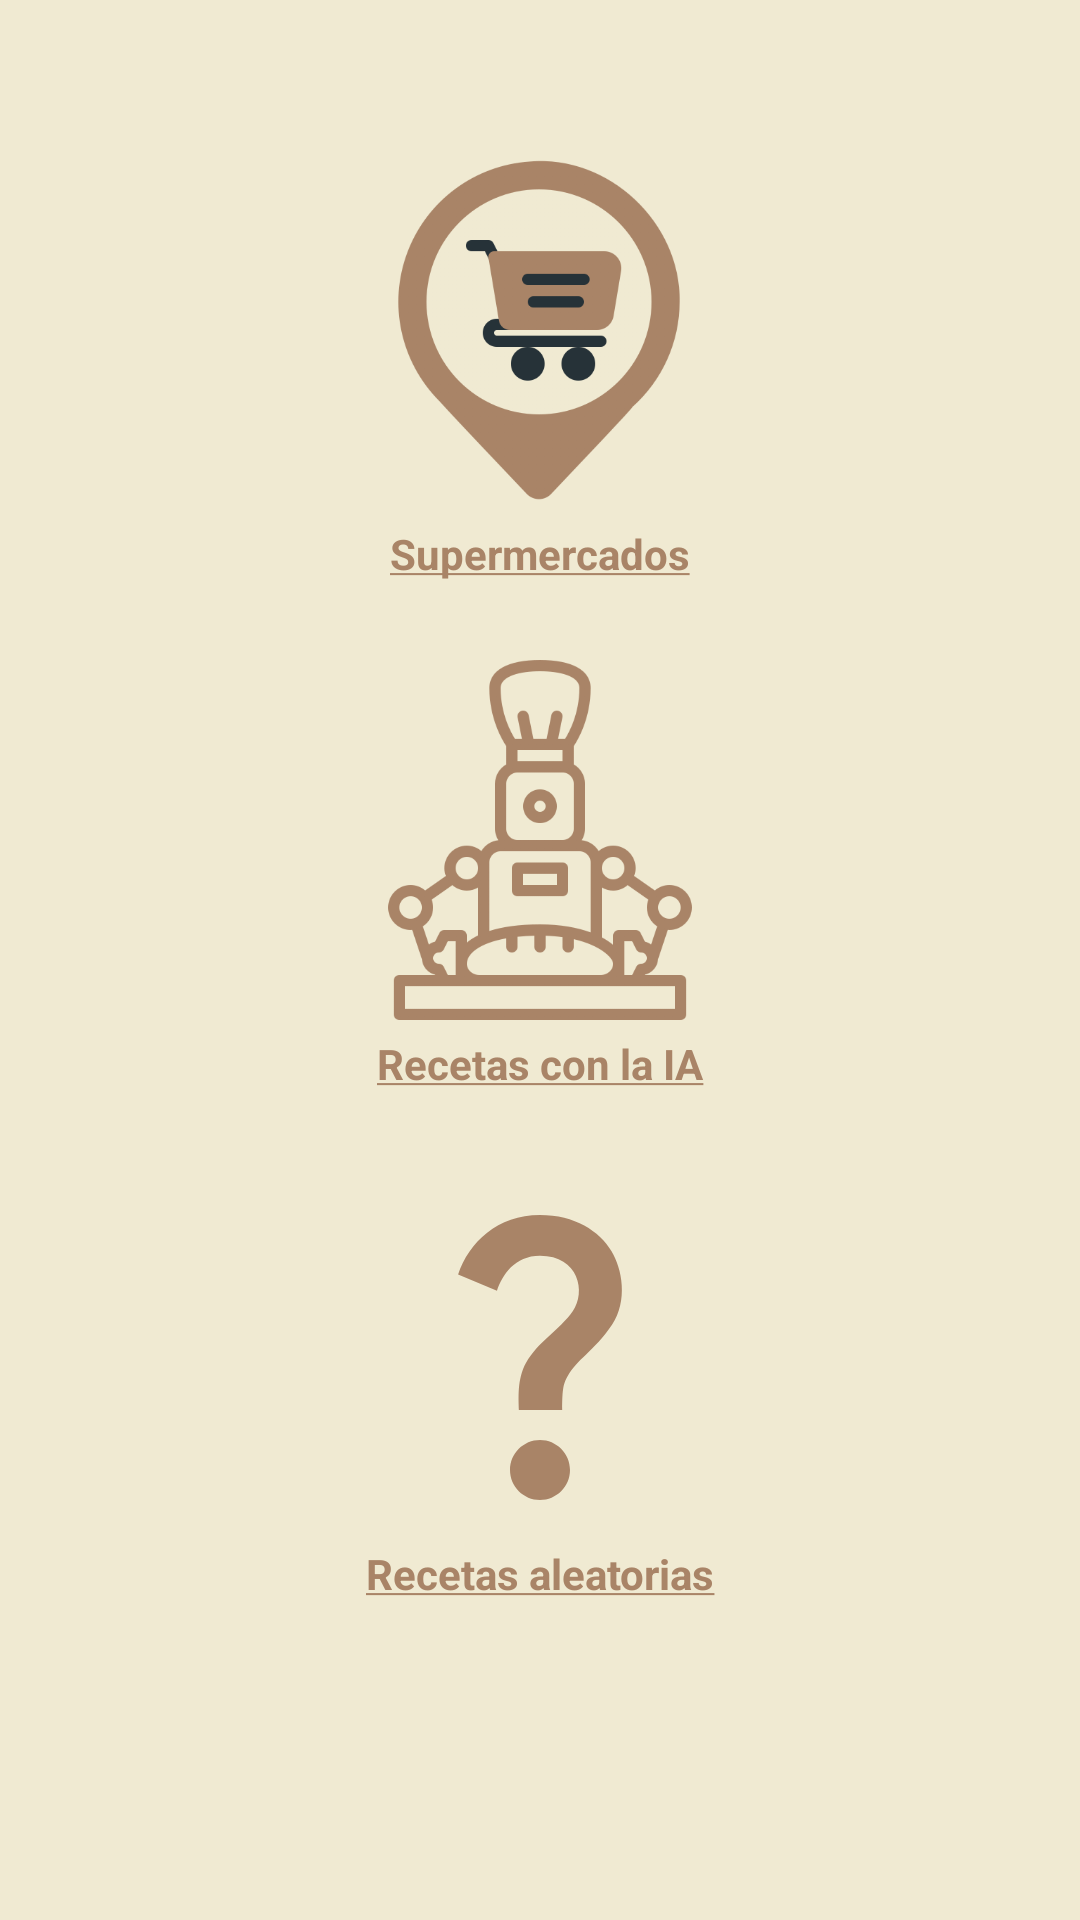

Icons on this 1080*1920 Android screen, each with its box as [x1,y1,x2,y2]:
question mark: [458,1215,622,1500]
robot: [388,660,692,1020]
shopping: [398,161,680,500]
